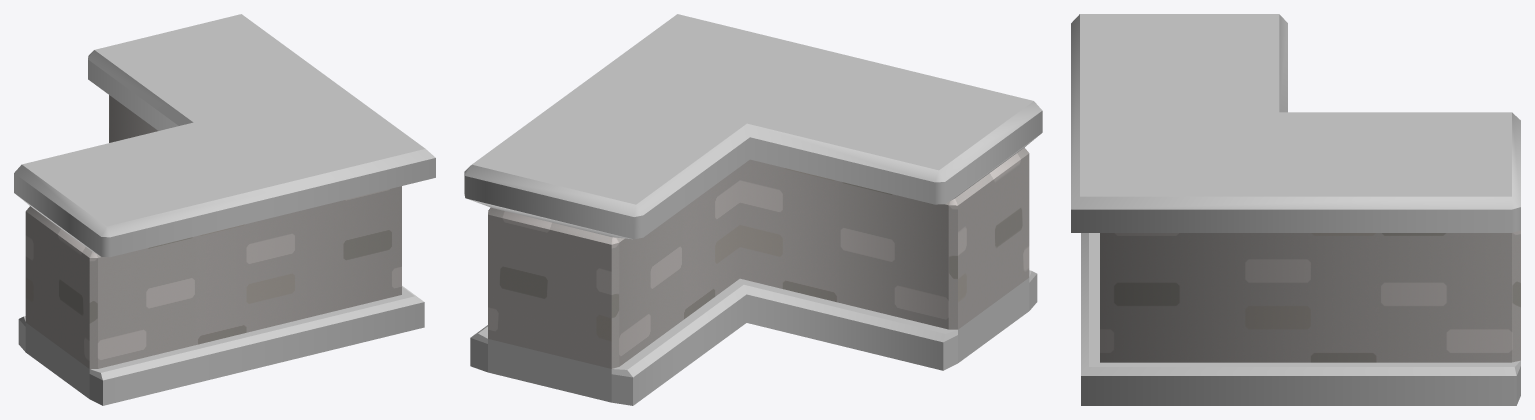
Rendered from BrickWall_3_2.fbx.
The picture shows the model from 3 angles, left to right: view 1: azimuth 30°, elevation 25°; view 2: azimuth 150°, elevation 25°; view 3: azimuth 270°, elevation 25°; orthographic projection. The views are drawn at different scales.
Visible parts, largest first — view 1: BrickWall_3_2; view 2: BrickWall_3_2; view 3: BrickWall_3_2.
Boxes of the visible parts, left/top/right/bottom form: BrickWall_3_2: left=14, top=14, right=435, bottom=405; BrickWall_3_2: left=464, top=14, right=1042, bottom=405; BrickWall_3_2: left=1071, top=14, right=1520, bottom=405.
Bounding box in the file's own units: 132 × 67.83 × 132.
